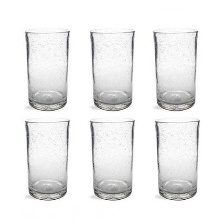glass: (24, 21, 78, 111), (152, 113, 205, 203), (148, 22, 201, 112), (21, 114, 73, 203), (85, 112, 136, 201), (86, 24, 135, 113)
